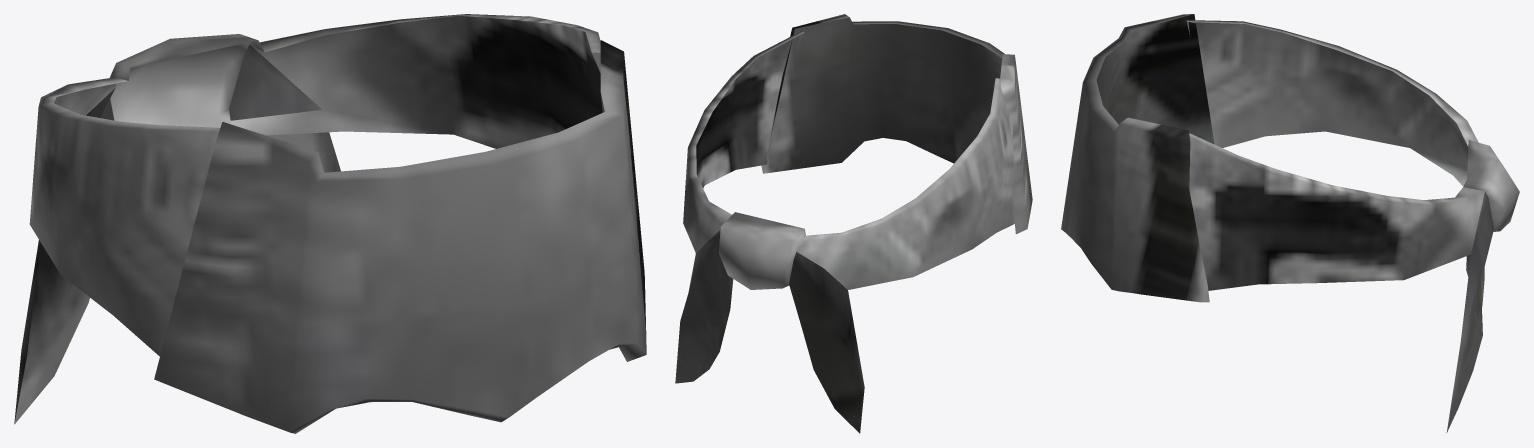
File: rider-helmet-slice-mediumcavalry.glb
The picture shows the model from 3 angles, left to right: view 1: azimuth 30°, elevation 25°; view 2: azimuth 150°, elevation 25°; view 3: azimuth 270°, elevation 25°; orthographic projection. The views are drawn at different scales.
Bounding box in the file's own units: 0.2139 × 0.2047 × 0.279.
1 material, 1 textured.
